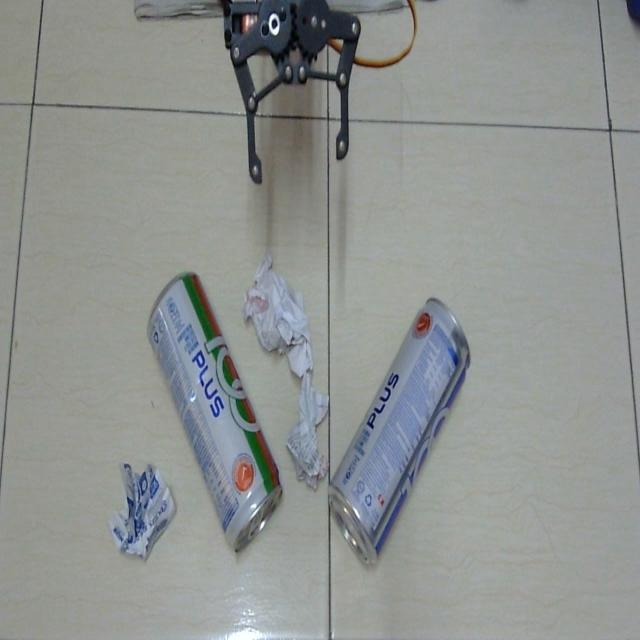Metal-laydown_45left-rotation: (146, 270, 285, 561)
Metal-laydown_45right-rotation: (327, 292, 472, 571)
Paperrotation: (237, 251, 321, 378), (108, 449, 176, 566), (285, 377, 332, 480)
